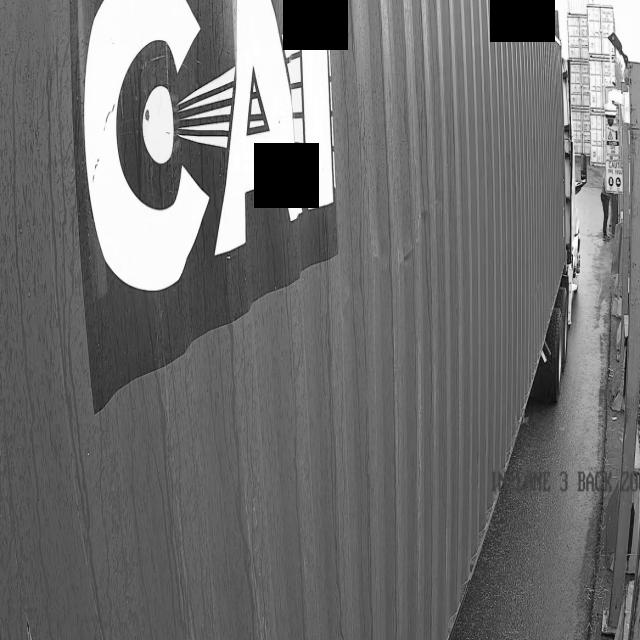container_company_logo: (57, 0, 420, 329)
truck_with_container: (0, 0, 577, 640)
